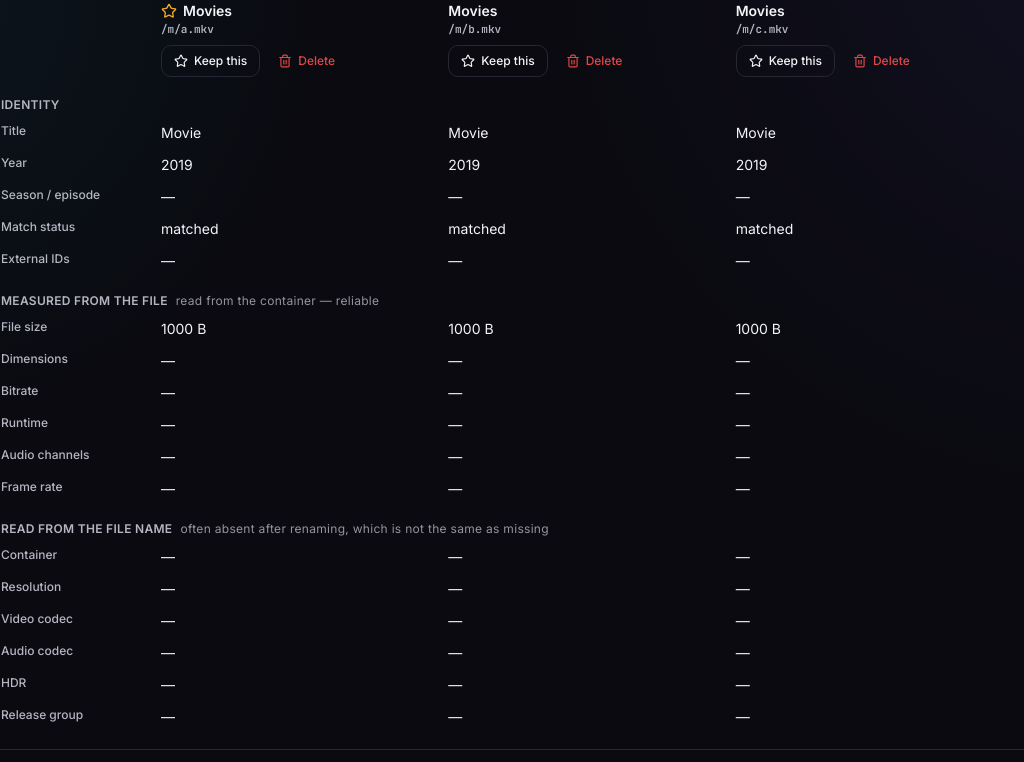
it: DuplicateComparison — per-file actions › surfaces a server blocker instead of letting the delete proceed
Expected: the text "/m/a.mkv" is shown, [161, 22, 214, 36]
Click the button with aria-label "Delete only this copy: /m/a.mkv": (307, 61) [266, 45, 347, 77]
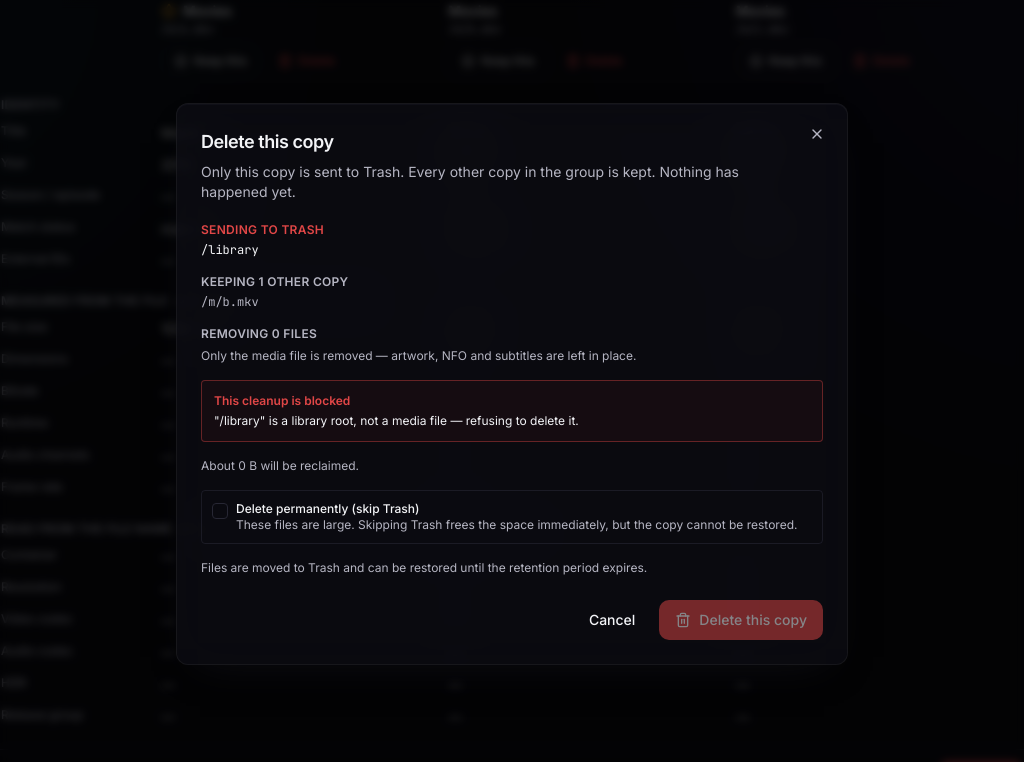
Expected: the list item "library root" is shown, [214, 413, 579, 428]
Expected: the button "Delete this copy" is disabled, [659, 600, 823, 640]
